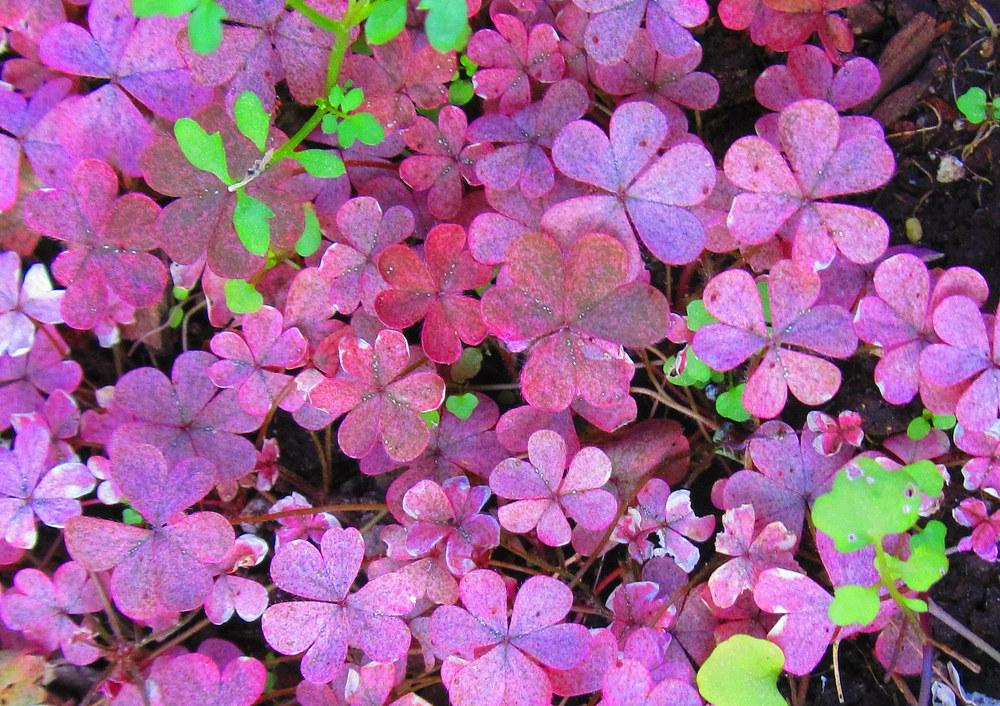oxalis: (11, 17, 1000, 681)
